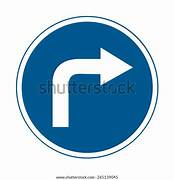right: (16, 13, 159, 159)
